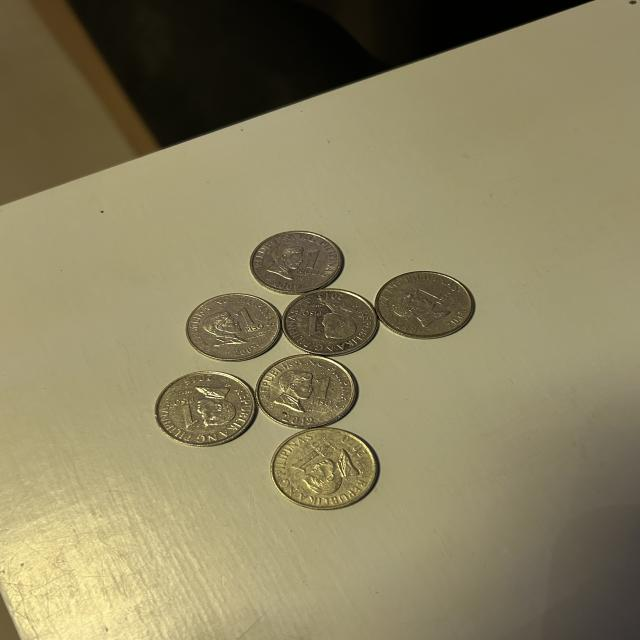1_Old_Front: (282, 439, 338, 483), (303, 376, 345, 411), (407, 282, 455, 312), (168, 392, 208, 428), (302, 308, 332, 341), (230, 309, 264, 338), (296, 250, 318, 281)
